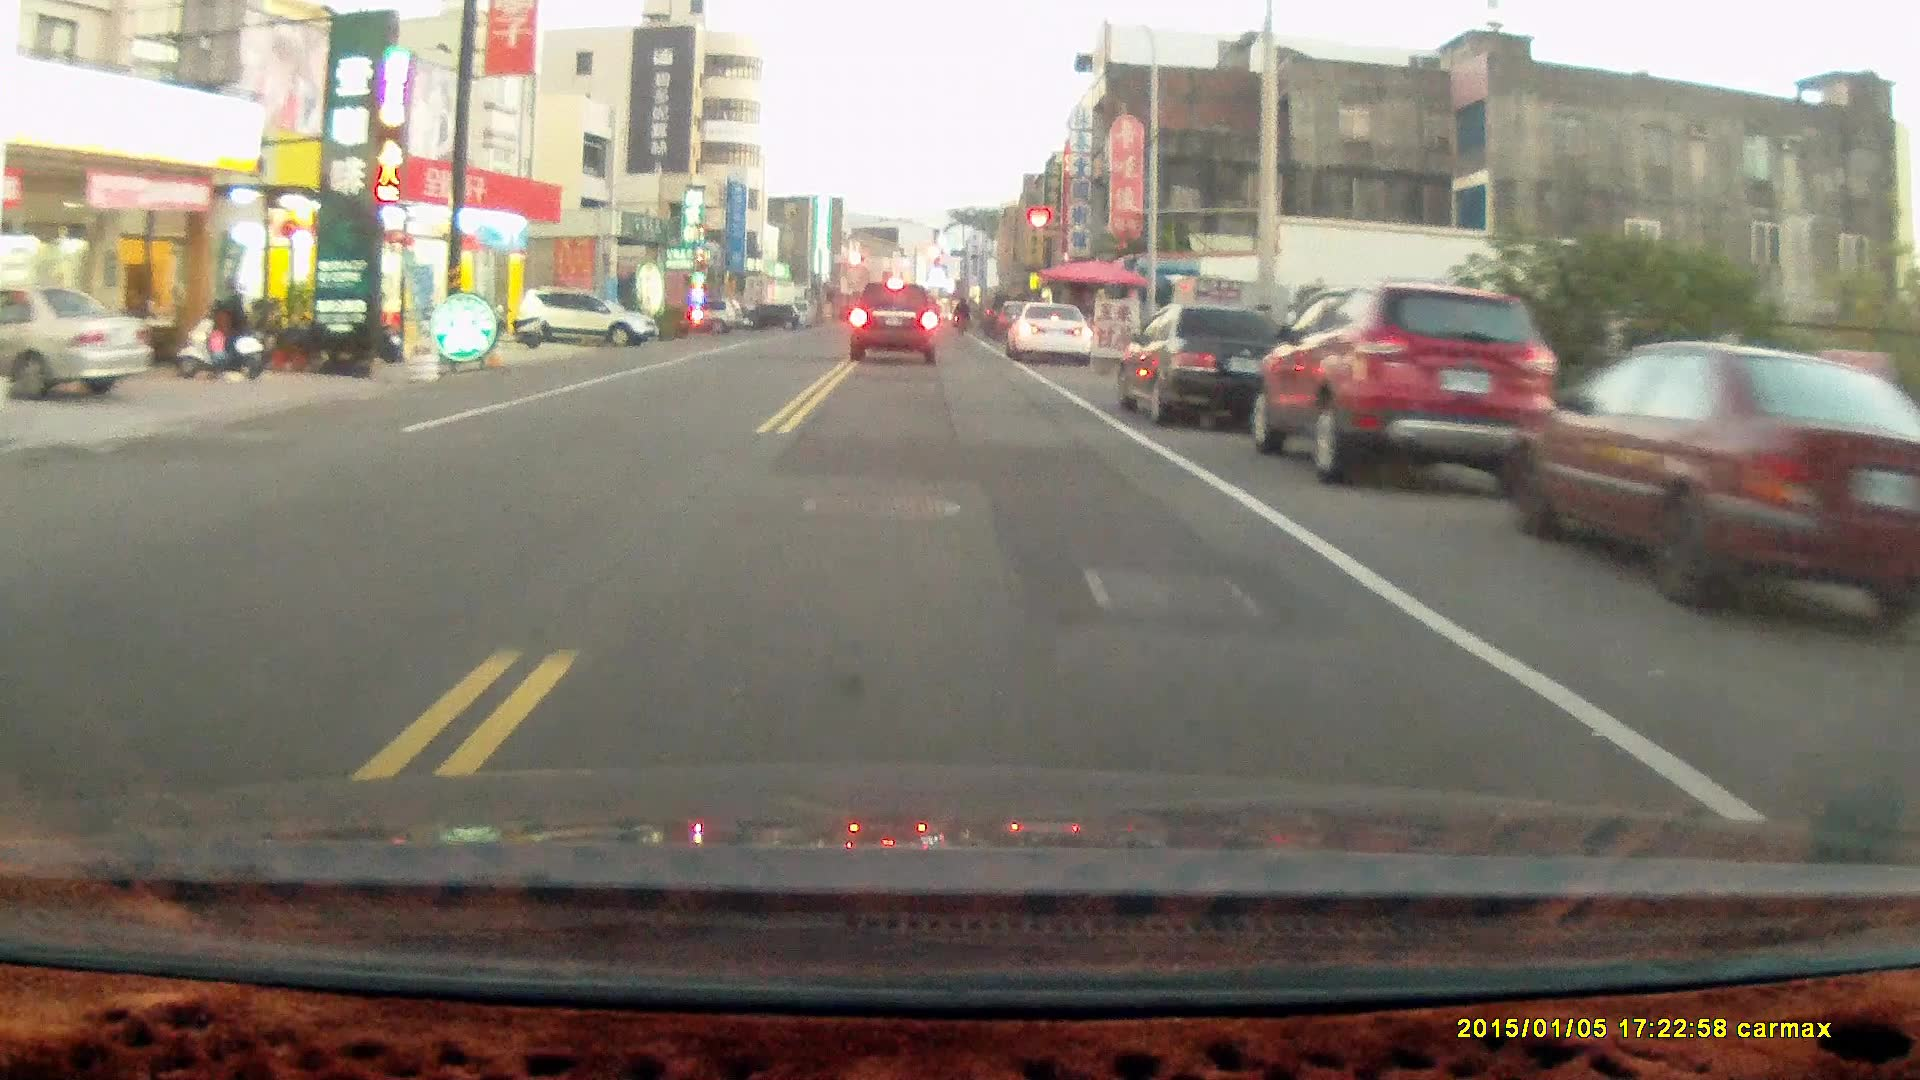vehicle: (1503, 340, 1920, 630), (1255, 280, 1567, 483), (1120, 299, 1292, 434), (1, 287, 156, 400), (518, 284, 663, 352), (849, 280, 939, 364), (1007, 301, 1095, 367)
